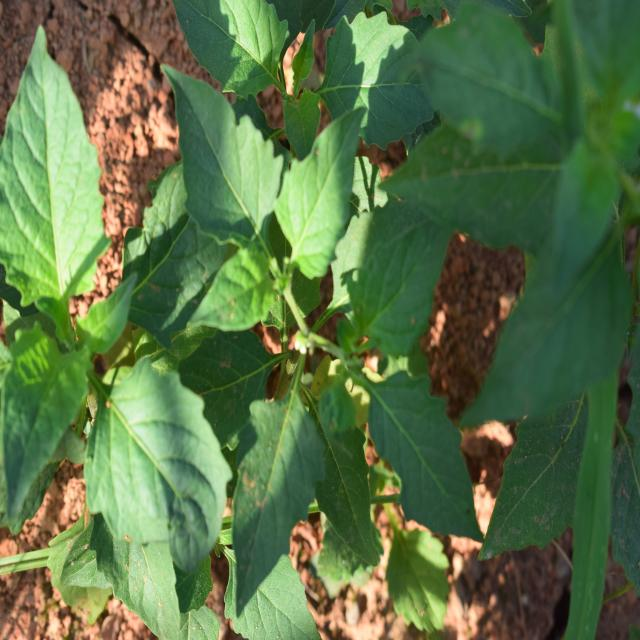Black_nightshade: (171, 44, 461, 556), (13, 48, 214, 563)
